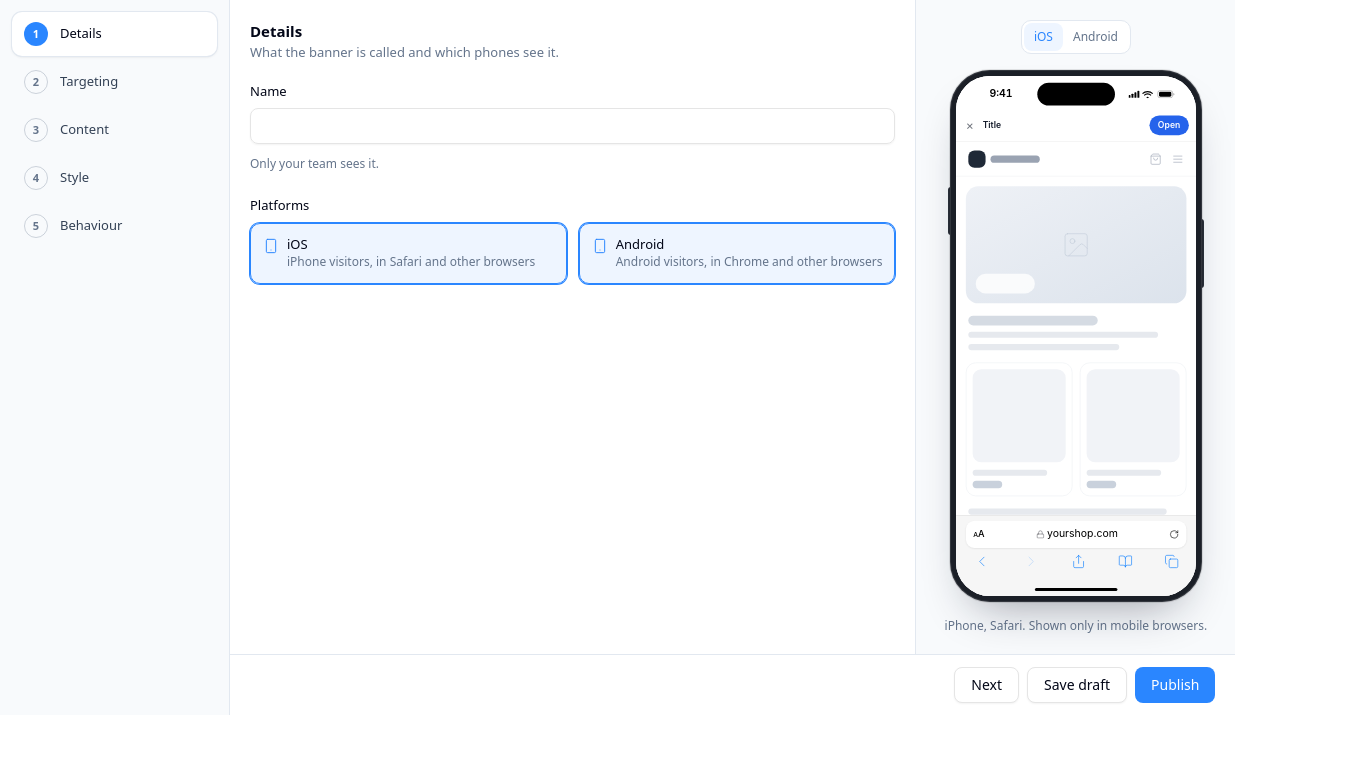
it: SmartBannerComposer › asks before discarding when the dialog closes with changes
The width and height of the screenshot is (1366, 768).
Type "x" into the field labelled "Name" at (573, 126), box [250, 108, 895, 144]
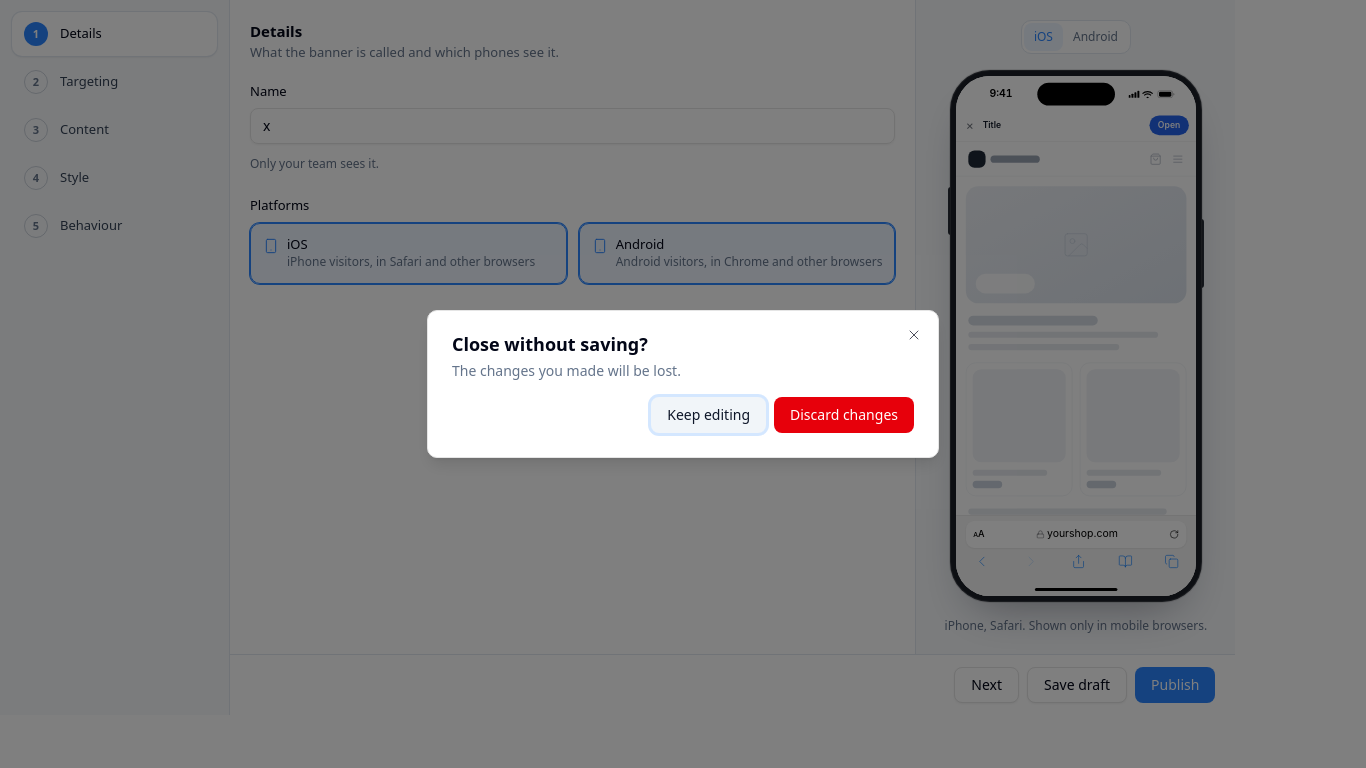
Expected: the heading "Close without saving?" is shown, [452, 332, 648, 356]
